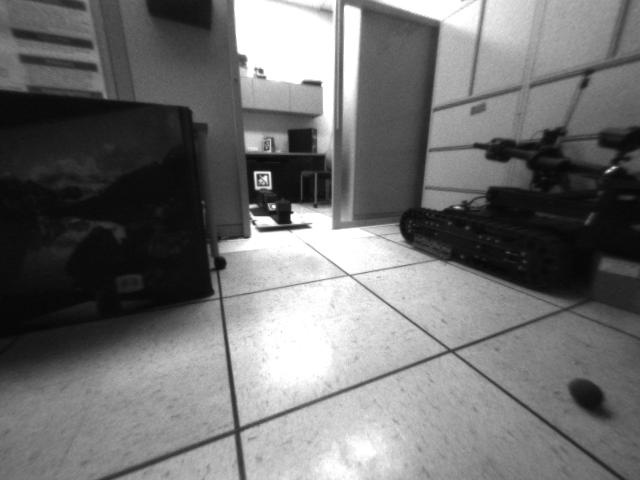dogtoy: (561, 366, 615, 418)
